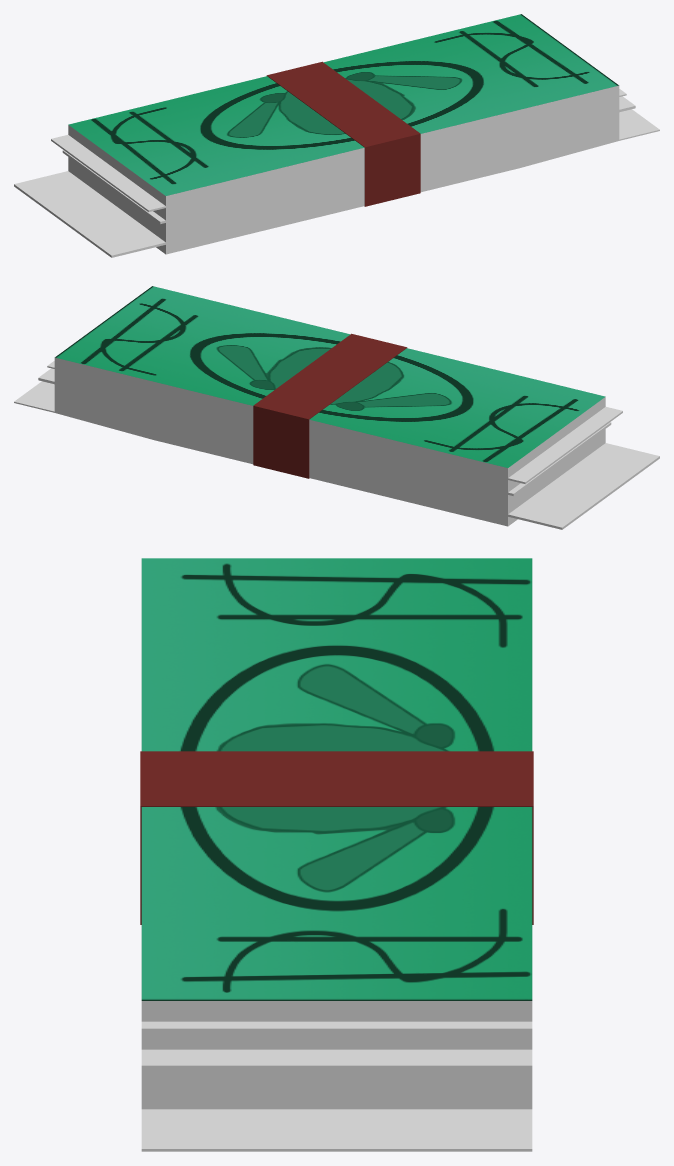
The model's file is money stack (money sticking out 2).fbx.
3 renders of one model, top to bottom at view 1: azimuth 30°, elevation 25°; view 2: azimuth 150°, elevation 25°; view 3: azimuth 270°, elevation 25°, orthographic. The views are drawn at different scales.
Visible parts, largest first — view 1: Plane; view 2: Plane; view 3: Plane.
Boxes of the visible parts, left/top/right/bottom form: Plane: left=14, top=14, right=659, bottom=257; Plane: left=14, top=286, right=659, bottom=529; Plane: left=140, top=558, right=533, bottom=1151.
Bounding box in the file's own units: 731 × 75.84 × 227.
